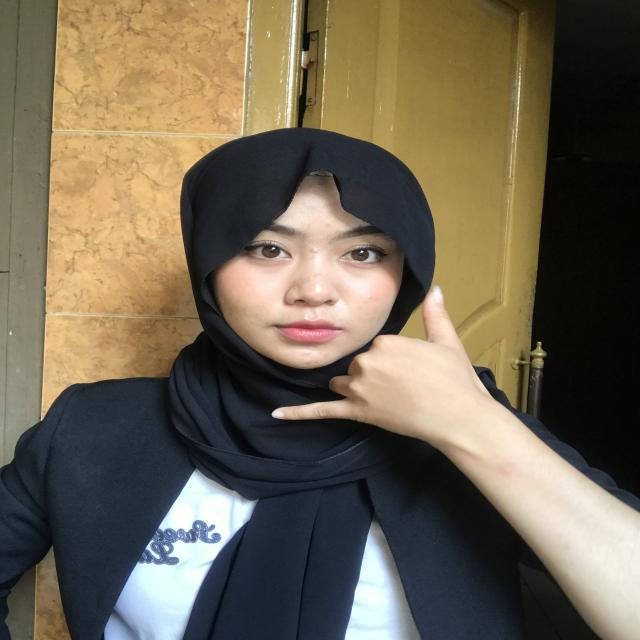telpon: (229, 270, 508, 443)
